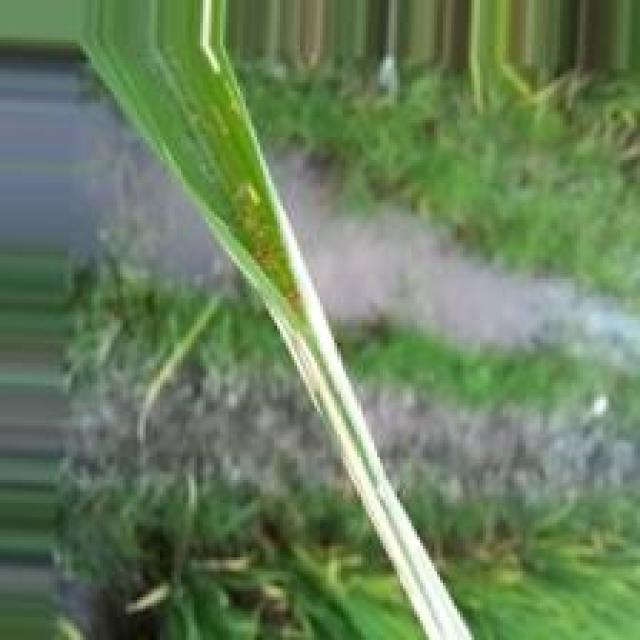Rice False Smut: (304, 288, 467, 637)
